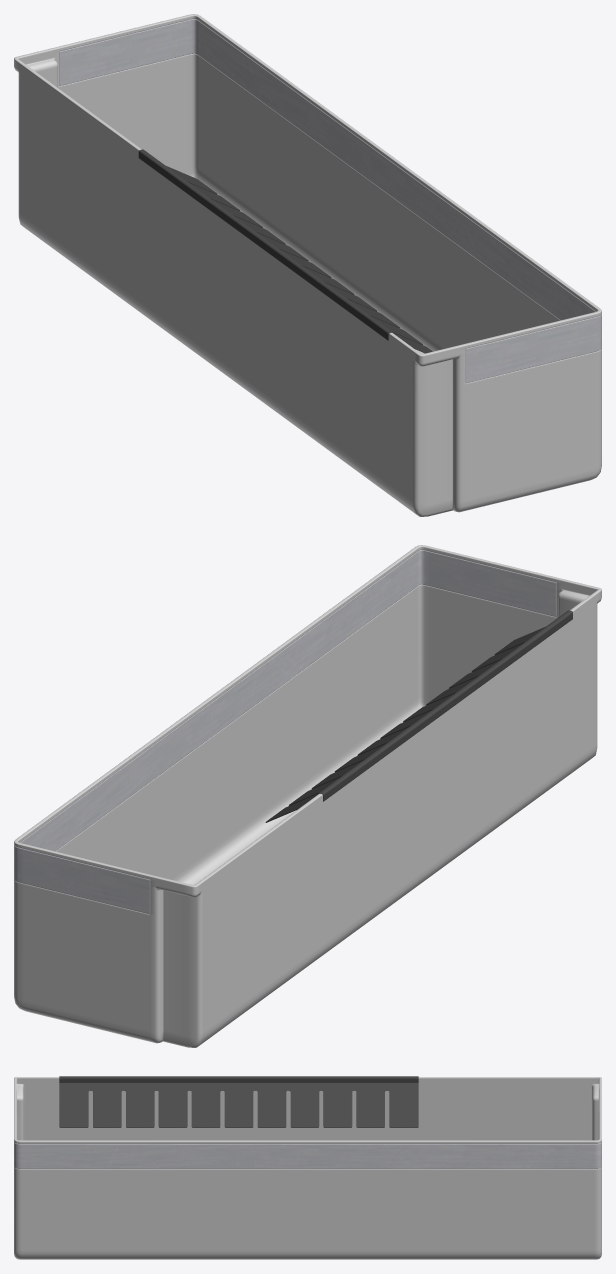
The model's file is SM_Fridge_Door_Tray_01.dae.
The picture shows the model from 3 angles, top to bottom: view 1: azimuth 30°, elevation 25°; view 2: azimuth 150°, elevation 25°; view 3: azimuth 270°, elevation 25°; orthographic projection. The views are drawn at different scales.
Visible parts, largest first — view 1: SM_Fridge_Door_Tray_01; view 2: SM_Fridge_Door_Tray_01; view 3: SM_Fridge_Door_Tray_01.
Part boxes in pixels (x1,y1,x2,y2): SM_Fridge_Door_Tray_01: (14,14,601,516); SM_Fridge_Door_Tray_01: (14,545,601,1047); SM_Fridge_Door_Tray_01: (14,1076,601,1259).
Size of the model in its own units: 0.1105 by 0.422 by 0.0963.
3 materials, 2 textured.
